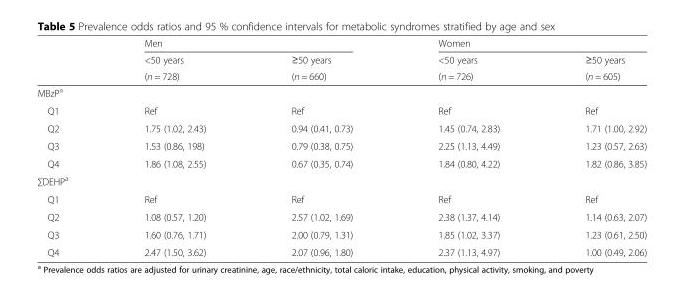table: (36, 37, 646, 257)
table column: (247, 37, 394, 257), (394, 37, 541, 257), (101, 37, 247, 257), (541, 37, 646, 257), (36, 37, 101, 257)
table column header: (36, 37, 646, 83)
table projected row header: (36, 171, 646, 190), (36, 83, 646, 101)
table row: (36, 171, 646, 190), (36, 83, 646, 101), (36, 101, 646, 119), (36, 136, 646, 154), (36, 207, 646, 225), (36, 225, 646, 243), (36, 50, 646, 67), (36, 119, 646, 136), (36, 154, 646, 171), (36, 190, 646, 207), (36, 67, 646, 83), (36, 243, 646, 257), (36, 37, 646, 50)
table spanning cell: (247, 50, 394, 83), (394, 50, 541, 83), (101, 50, 247, 83), (101, 37, 394, 50), (541, 50, 646, 83), (394, 37, 646, 50)
